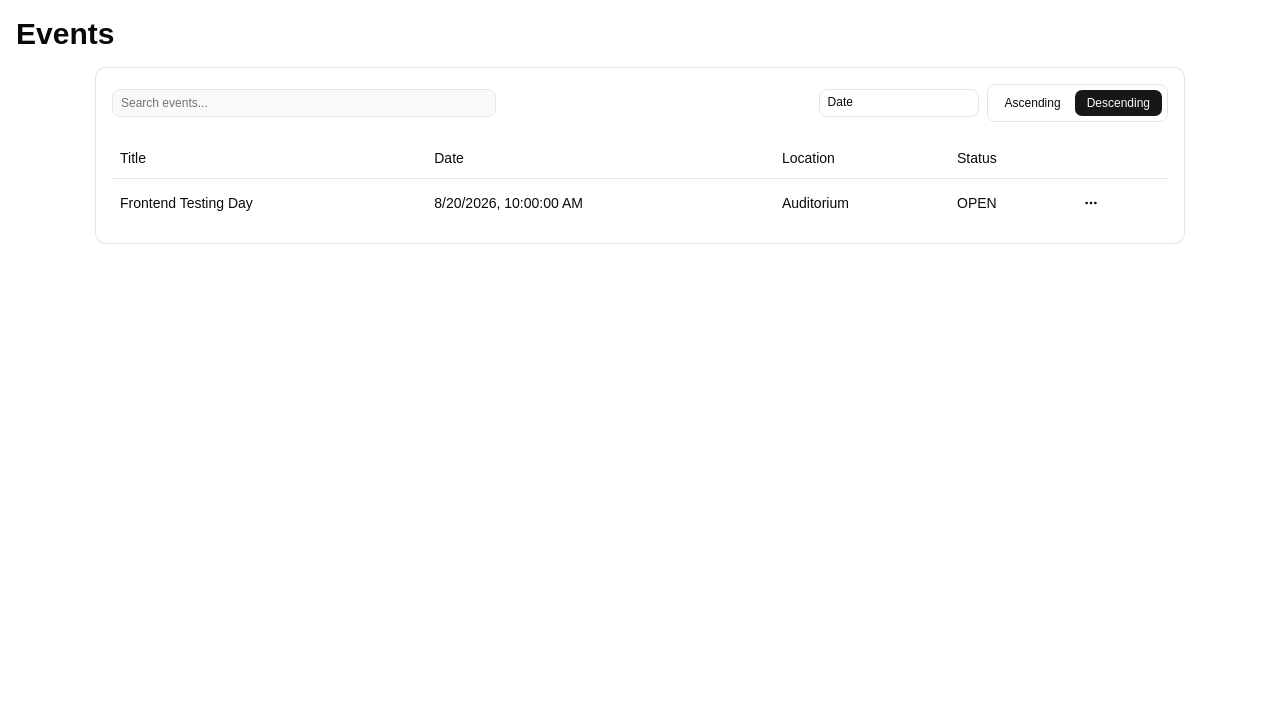
Test: EventsPage › opens the participants dialog from the actions menu
This screenshot has width=1280, height=720.
Expected: the text "Frontend Testing Day" is shown, [112, 178, 426, 226]
Step 1. Click the button named "open event actions" → (1091, 202), box [1075, 186, 1107, 218]
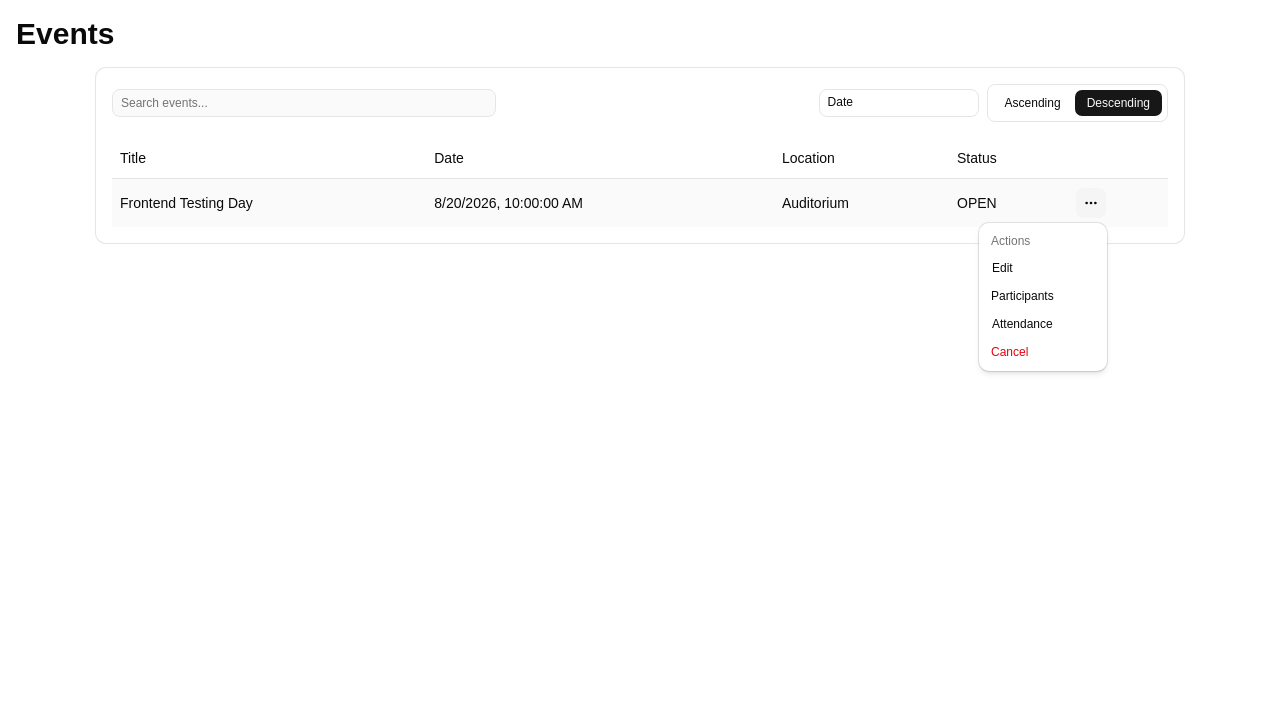
Step 2. Click the menu item "Participants" → (1022, 296), box [991, 289, 1054, 303]
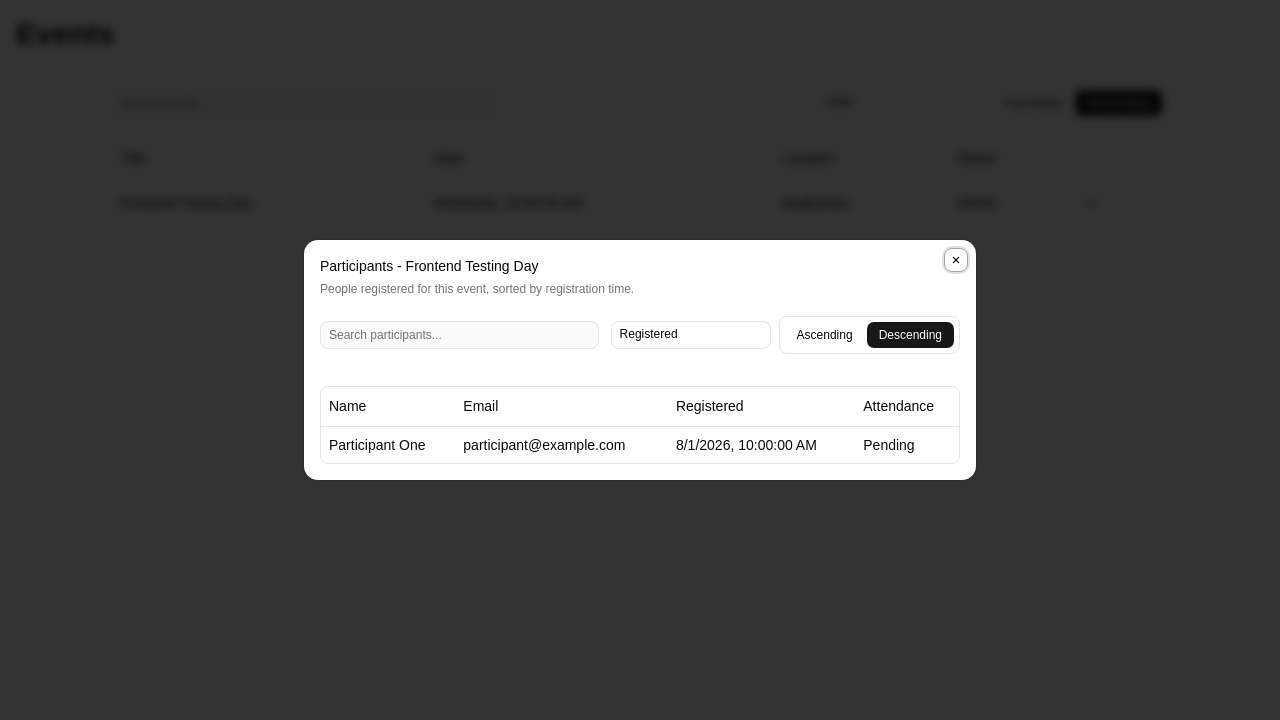
Result: the text "Participant One" is shown at [321, 426, 455, 463]
Result: the text "participant@example.com" is shown at [455, 426, 668, 463]
